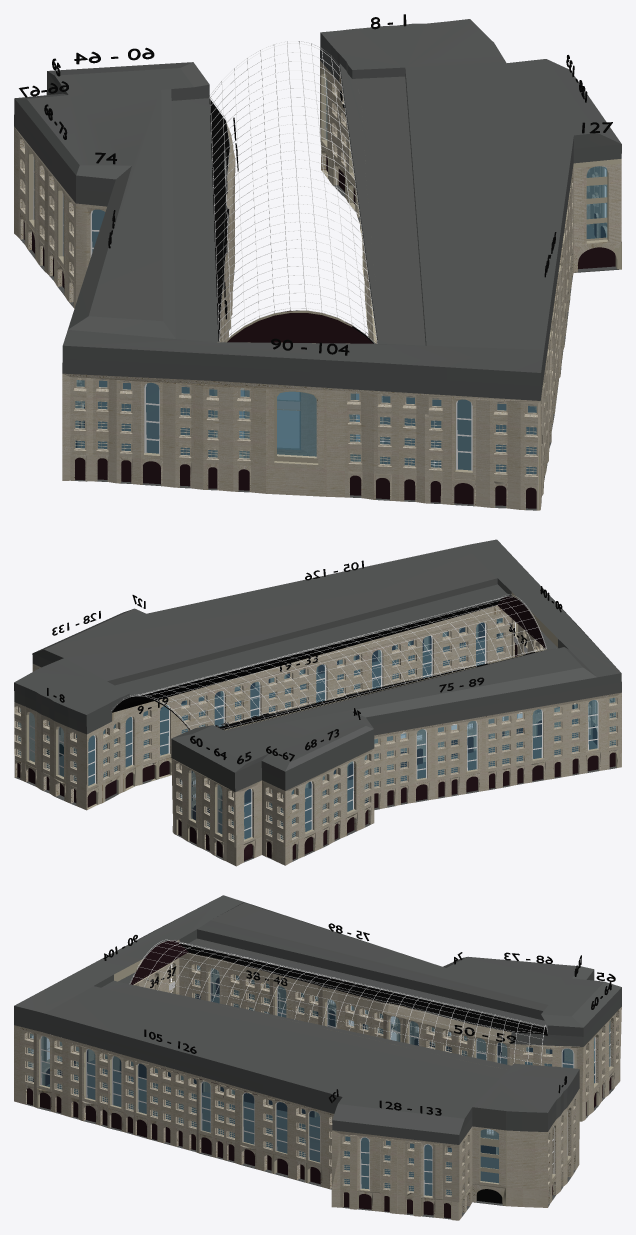
Rendered from HaysGalleriaSite.glb.
3 renders of one model, top to bottom at view 1: azimuth 30°, elevation 25°; view 2: azimuth 150°, elevation 25°; view 3: azimuth 270°, elevation 25°, orthographic. The views are drawn at different scales.
Parts seen in each view (by area): view 1: Text.001, Drop134, Drop97, Drop127, Drop36, Drop102, Drop93; view 2: Text.001, Drop134, Drop81, Drop88; view 3: Text.001, Drop134, Drop3, Drop121, Drop123, Drop125.
Part boxes in pixels (x1,y1,x2,y2): Text.001: (14, 14, 621, 510); Drop134: (171, 63, 425, 345); Drop97: (277, 391, 316, 456); Drop127: (586, 166, 607, 238); Drop36: (277, 392, 300, 449); Drop102: (457, 399, 471, 470); Drop93: (146, 383, 159, 453); Text.001: (14, 539, 621, 866); Drop134: (112, 584, 558, 732); Drop81: (467, 721, 476, 770); Drop88: (588, 700, 597, 749); Text.001: (14, 895, 621, 1220); Drop134: (101, 938, 547, 1078); Drop3: (480, 1129, 498, 1182); Drop121: (243, 1093, 254, 1144); Drop123: (276, 1102, 287, 1153); Drop125: (309, 1111, 319, 1162).
Size of the model in its own units: 52 by 11.99 by 57.89.
8 materials, 2 textured.
